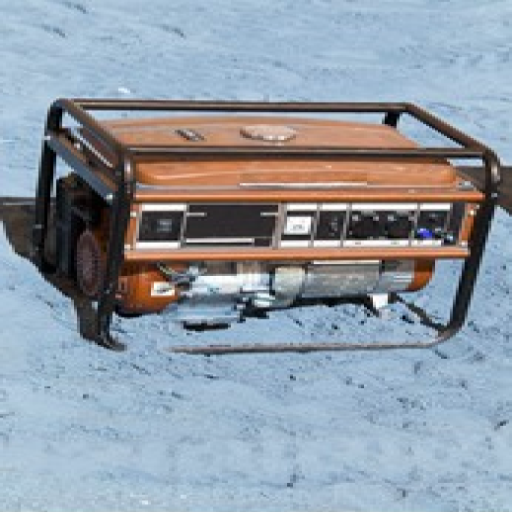portable_generator: (37, 98, 501, 354)
